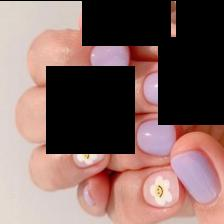purple: (171, 150, 220, 203), (137, 118, 177, 155), (80, 86, 120, 121), (143, 70, 183, 105), (91, 41, 129, 74), (161, 35, 192, 63), (82, 0, 118, 11)
